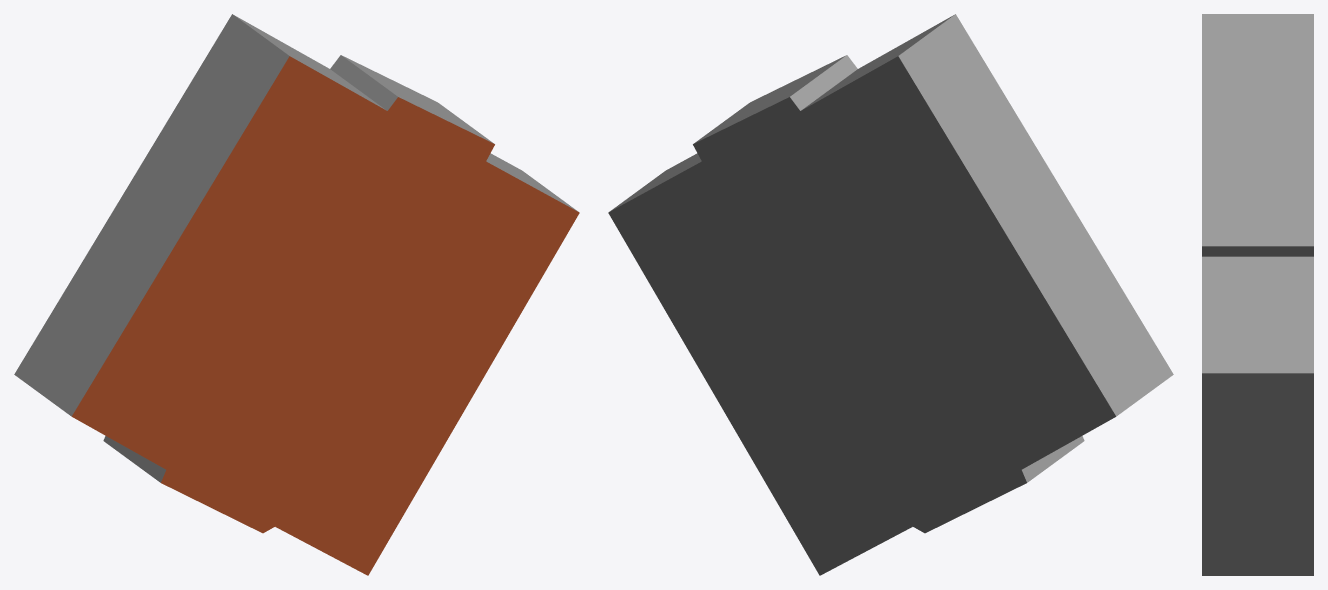
File: construction_1217_assumed_A_Casa_h6m.obj
The picture shows the model from 3 angles, left to right: view 1: azimuth 30°, elevation 25°; view 2: azimuth 150°, elevation 25°; view 3: azimuth 270°, elevation 25°; orthographic projection. The views are drawn at different scales.
Parts seen in each view (by area): view 1: construction_1217_assumed_A_Casa; view 2: construction_1217_assumed_A_Casa; view 3: construction_1217_assumed_A_Casa.
Boxes of the visible parts, <box> form: construction_1217_assumed_A_Casa: <box>14,14,579,575</box>; construction_1217_assumed_A_Casa: <box>608,14,1173,575</box>; construction_1217_assumed_A_Casa: <box>1202,14,1313,575</box>.
Size of the model in its own units: 30.63 by 31.05 by 6.
